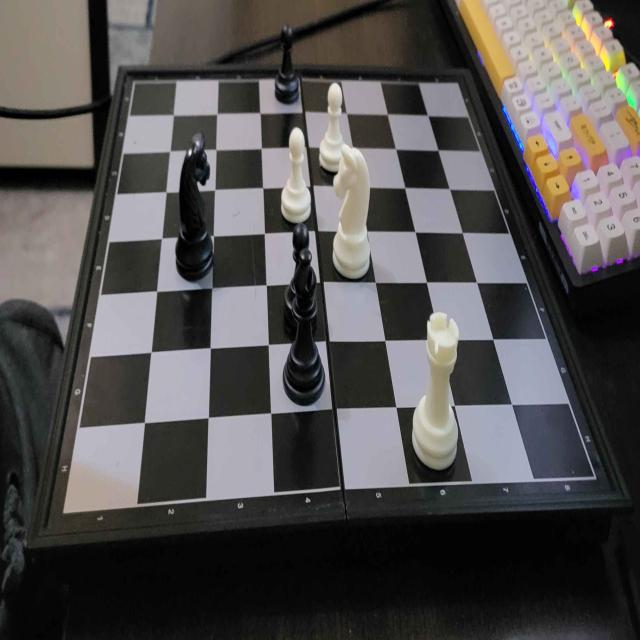black-bishop: (281, 244, 329, 412)
black-knight: (175, 124, 218, 284)
black-pawn: (274, 24, 300, 109)
chess-board: (43, 63, 608, 525)
white-knight: (330, 138, 373, 288)
white-pawn: (279, 122, 314, 230), (316, 79, 348, 174)
white-rook: (409, 308, 465, 481)
